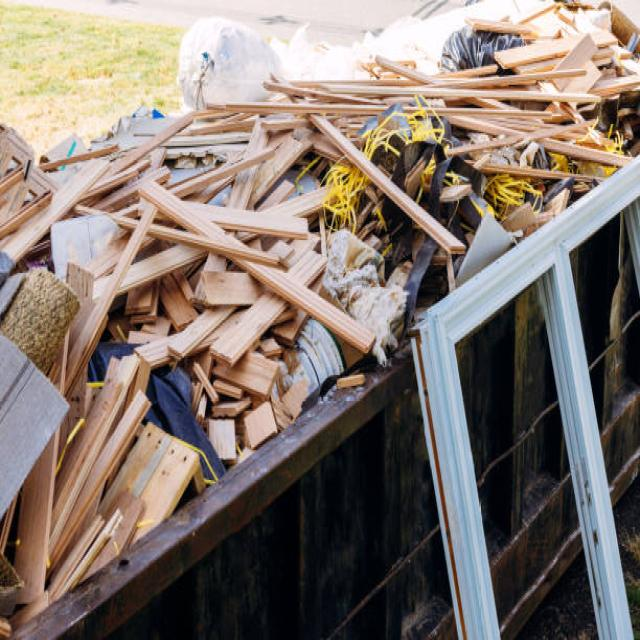cardboard: (81, 5, 610, 420)
